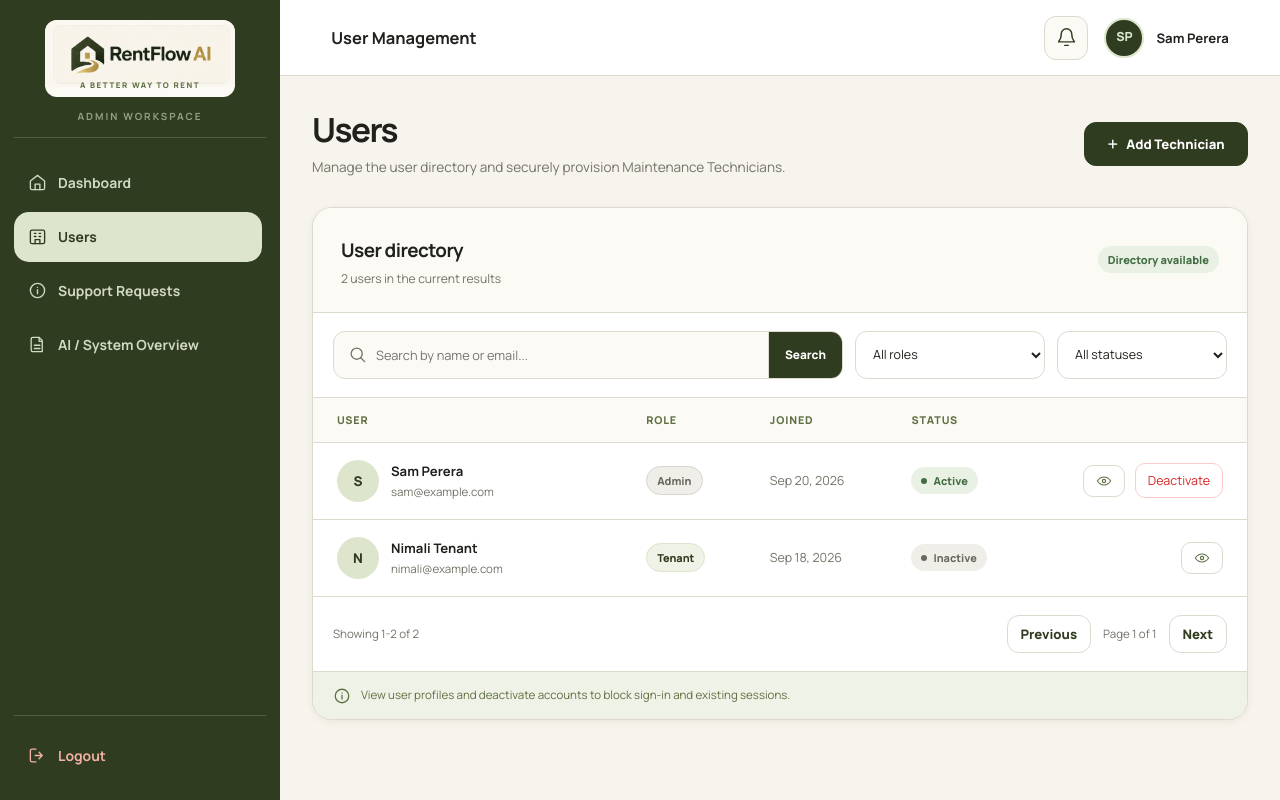
Scenario: Admin Users directory › keeps an active account unchanged when deactivation fails
Click the button named "View Sam Perera": (1104, 481) [1083,465,1125,497]
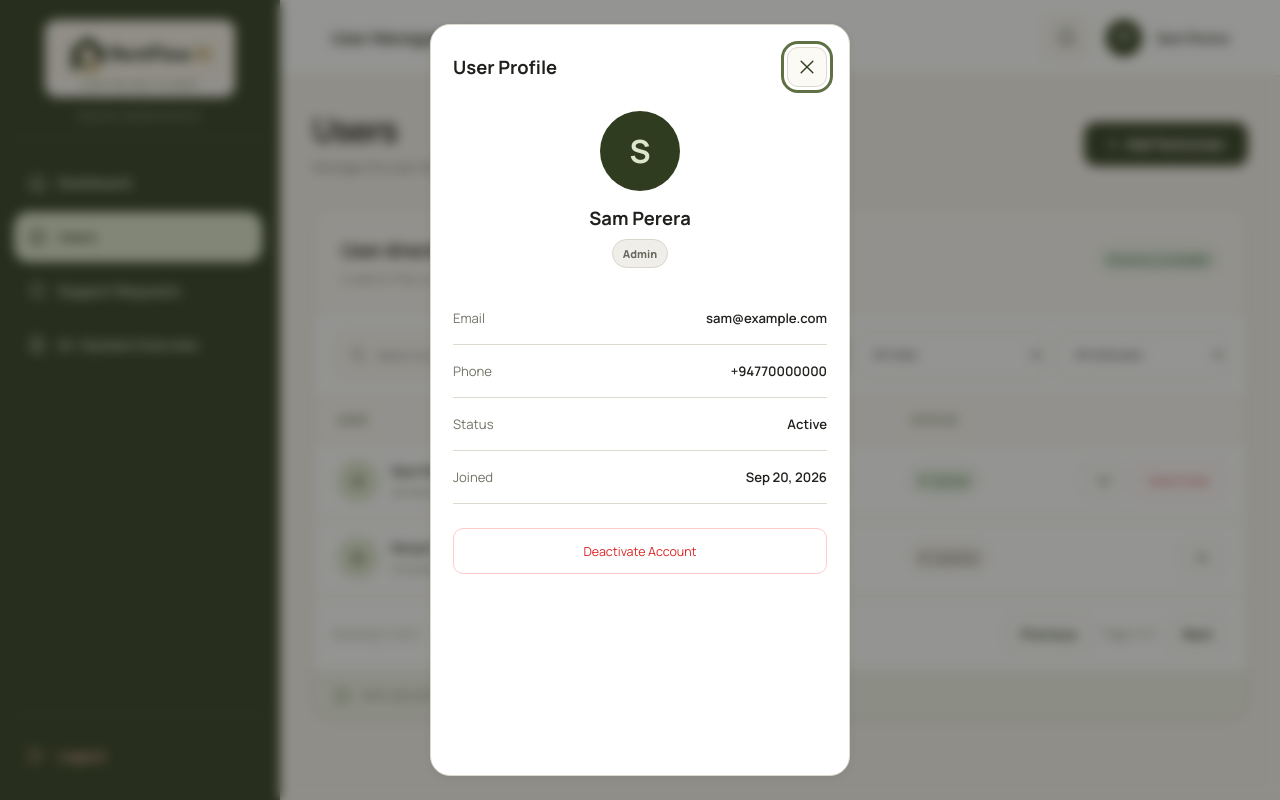
Click the button "Deactivate Account": (640, 551) [453,528,827,574]
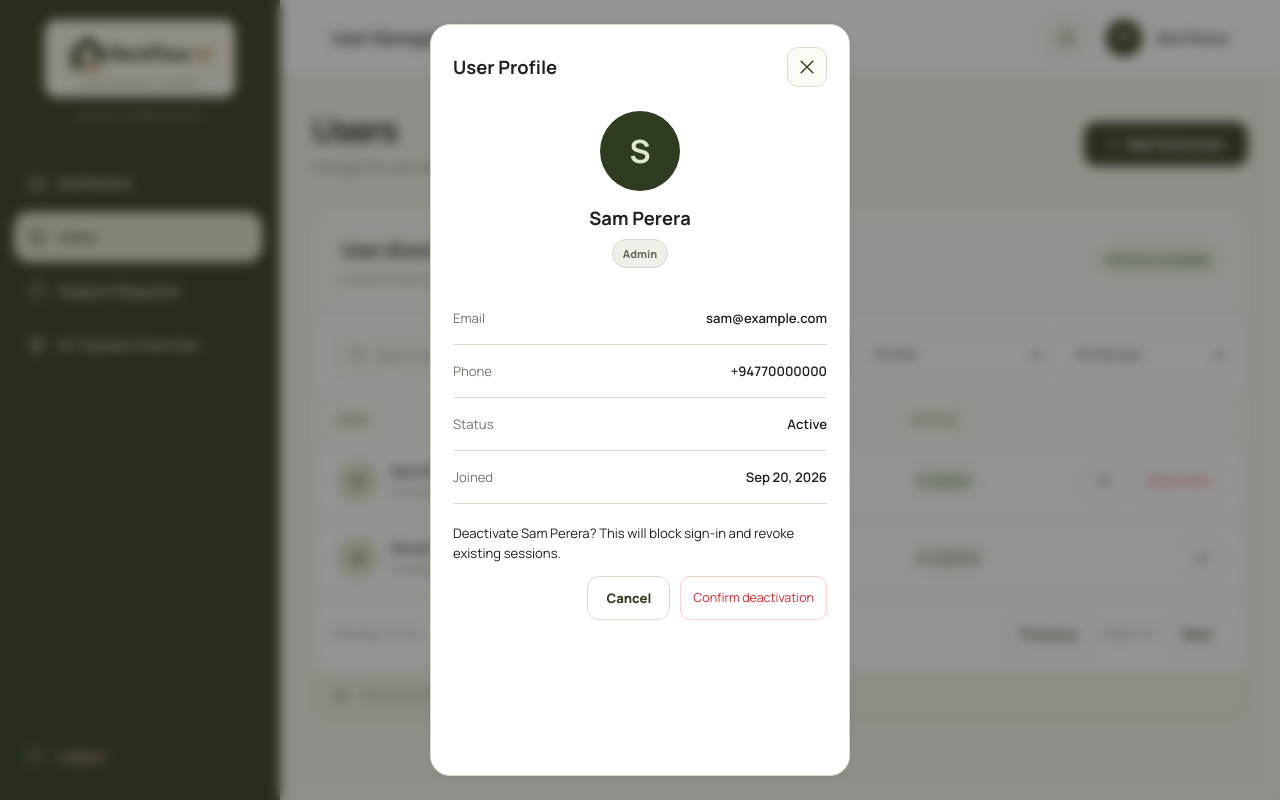
Click the button "Confirm deactivation": (754, 598) [680,576,827,620]
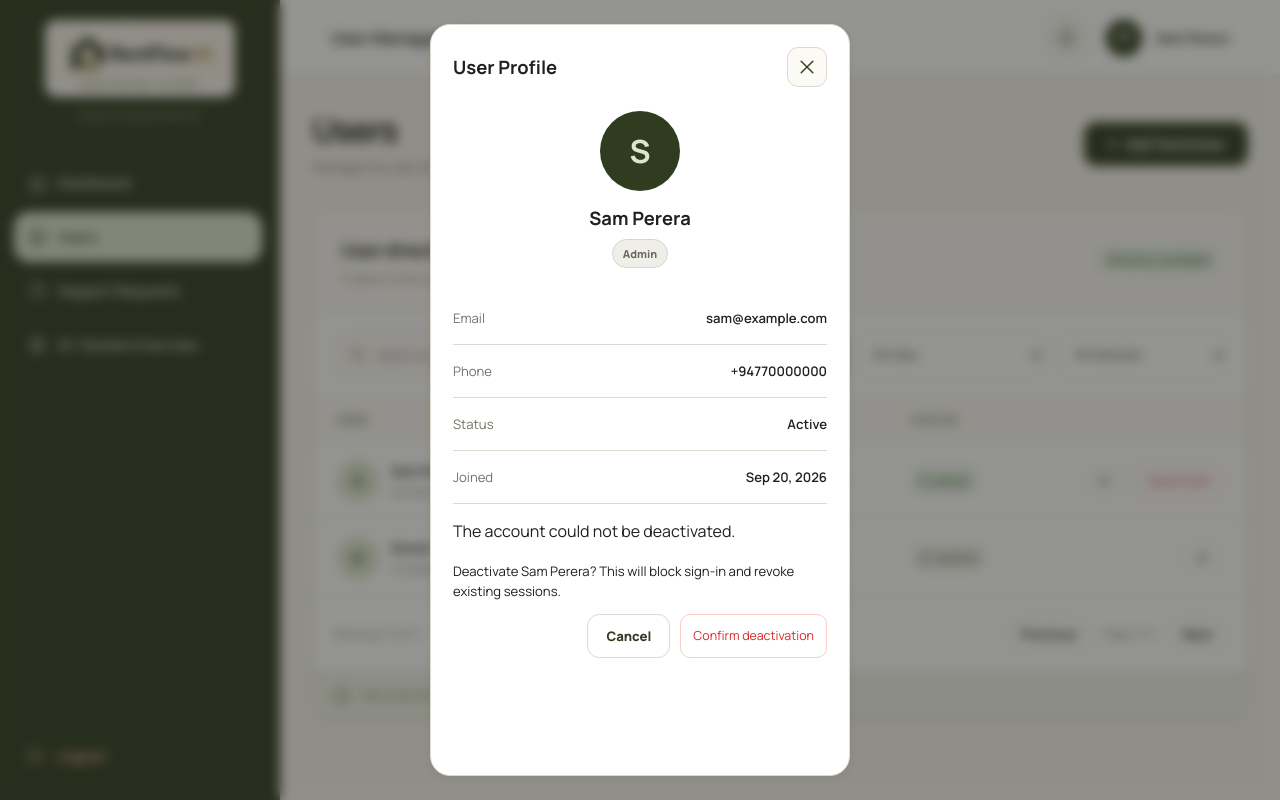
Expected: the text "Active" is shown, [787,415,827,433]
Expected: the button "Confirm deactivation" is enabled, [680,614,827,658]
Expected: the message "The account could not be deactivated." is shown, [453,520,735,542]
